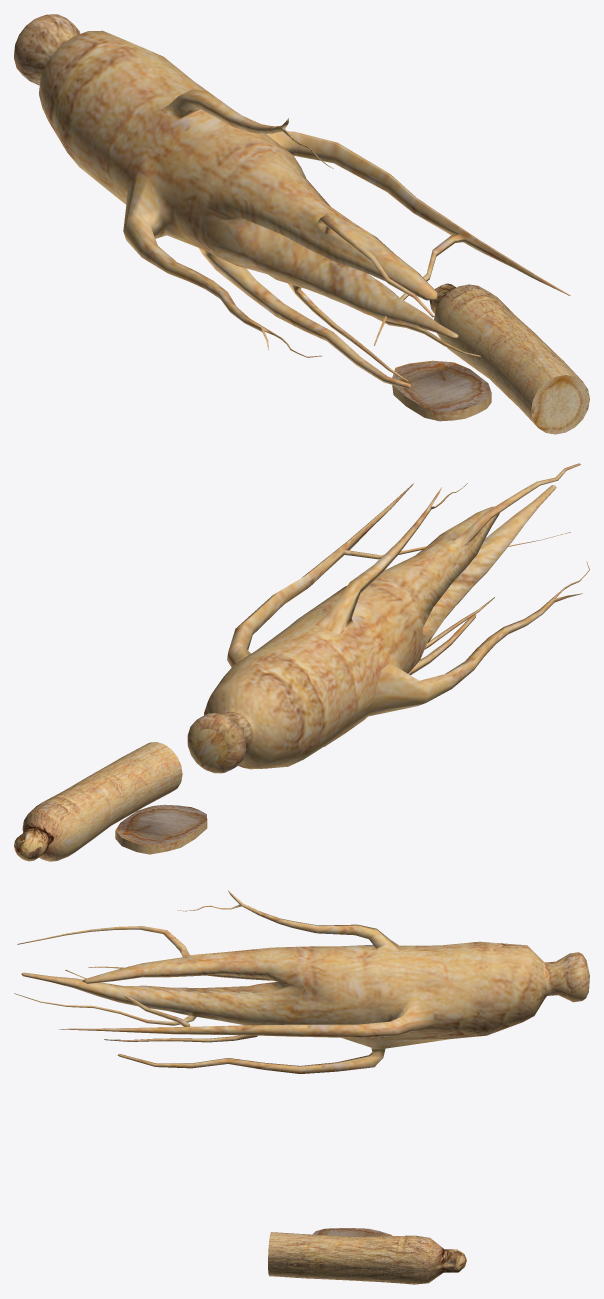
File: renshen.FBX
3 views of the same model, one above another, from view 1: azimuth 30°, elevation 25°; view 2: azimuth 150°, elevation 25°; view 3: azimuth 270°, elevation 25° (orthographic). The views are drawn at different scales.
Visible parts, largest first — view 1: Cylinder001 (×2), Line002; view 2: Cylinder001 (×2), Line002; view 3: Cylinder001 (×2), Line002.
Boxes of the visible parts, x1=… form: Cylinder001 (×2): x1=14, y1=14, x2=589, y2=434; Line002: x1=392, y1=360, x2=491, y2=421; Cylinder001 (×2): x1=14, y1=463, x2=589, y2=861; Line002: x1=115, y1=804, x2=207, y2=854; Cylinder001 (×2): x1=14, y1=890, x2=589, y2=1284; Line002: x1=312, y1=1228, x2=392, y2=1236.
Bounding box in the file's own units: 66.14 × 58.98 × 108.
